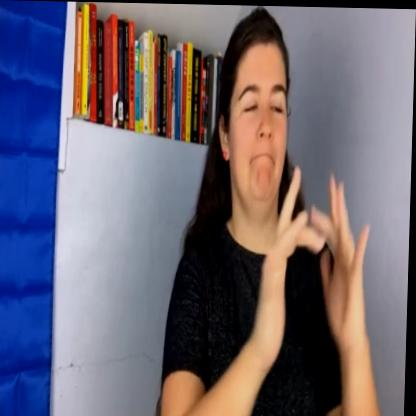Internet: (262, 158, 384, 378)
